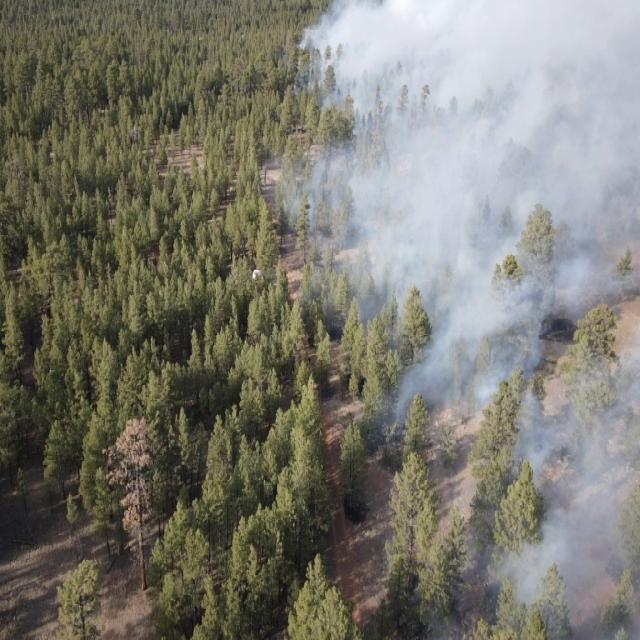smoke: (289, 0, 640, 382), (388, 380, 640, 640)
